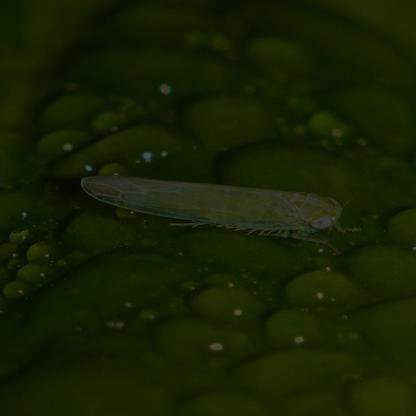green-leafhopper: (82, 172, 343, 245)
